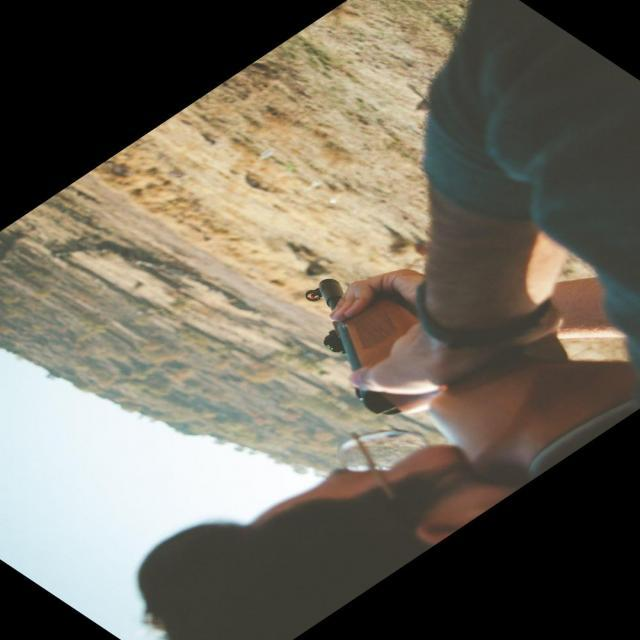weapon: (302, 274, 566, 418)
